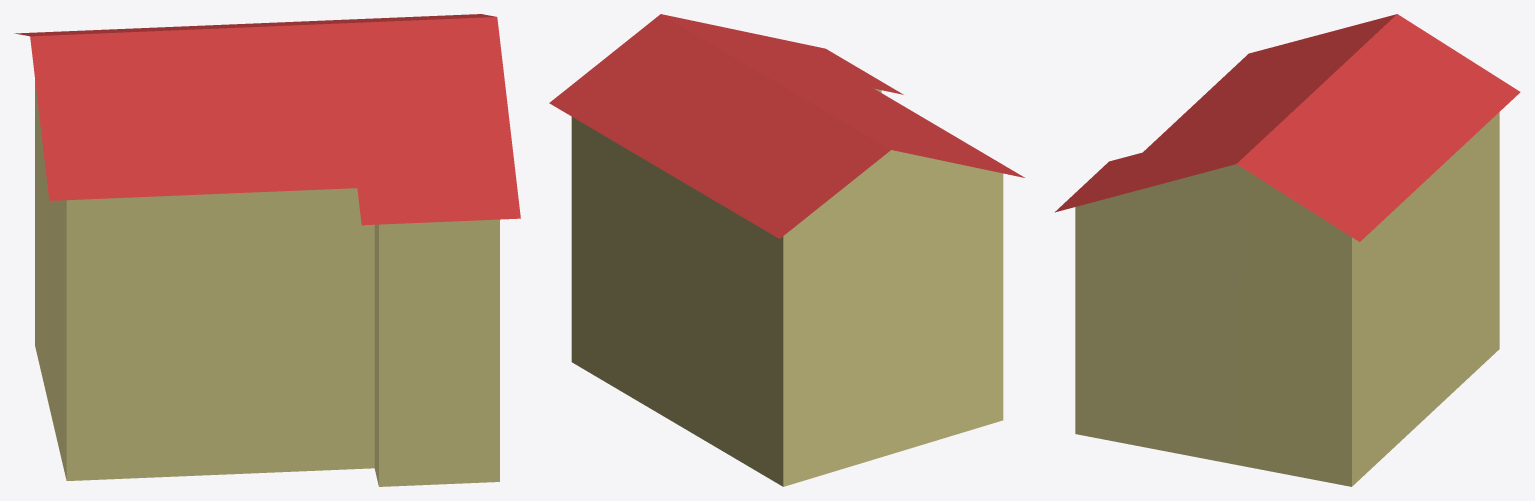
The picture shows the model from 3 angles, left to right: view 1: azimuth 30°, elevation 25°; view 2: azimuth 150°, elevation 25°; view 3: azimuth 270°, elevation 25°; orthographic projection. The views are drawn at different scales.
Size of the model in its own units: 14.96 by 14.58 by 10.63.
